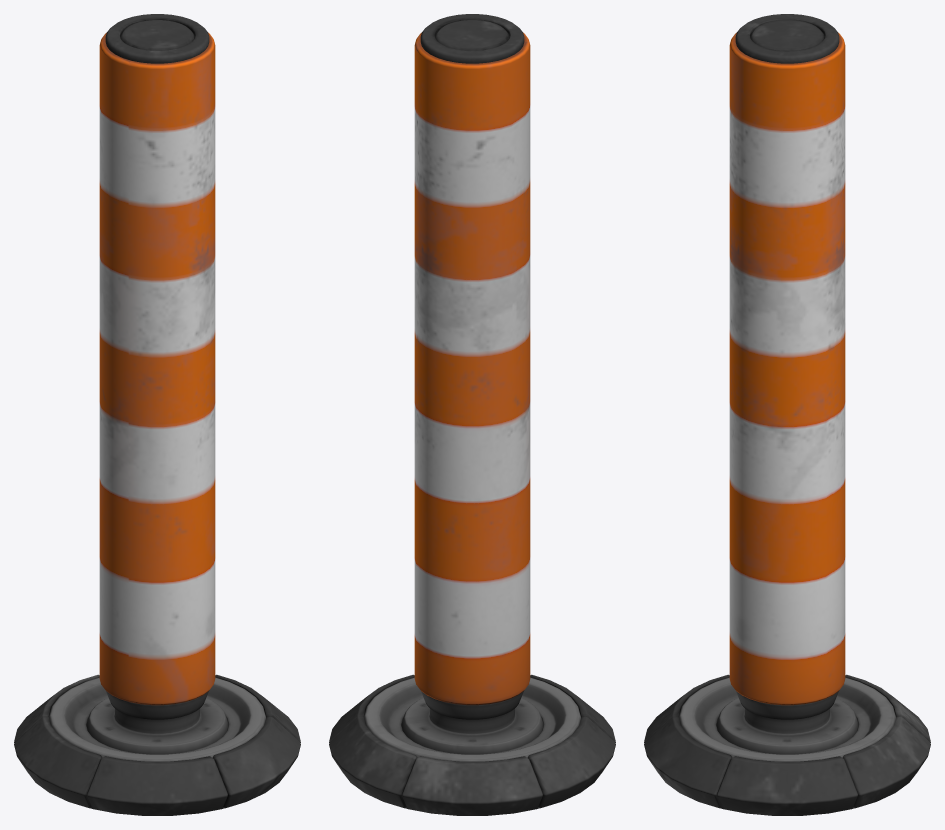
Rendered from SM_Bollard.fbx.
3 views of the same model, side by side, from view 1: azimuth 30°, elevation 25°; view 2: azimuth 150°, elevation 25°; view 3: azimuth 270°, elevation 25° (orthographic).
Visible parts, largest first — view 1: SM_Bollard_LOD0; view 2: SM_Bollard_LOD0; view 3: SM_Bollard_LOD0.
Part boxes in pixels (box(x1,y1,x2,y2)): SM_Bollard_LOD0: box(14, 14, 300, 815); SM_Bollard_LOD0: box(329, 14, 615, 815); SM_Bollard_LOD0: box(644, 14, 930, 815).
Bounding box in the file's own units: 29.29 × 29.4 × 82.11.
Materials: 1 (1 with a texture image).
